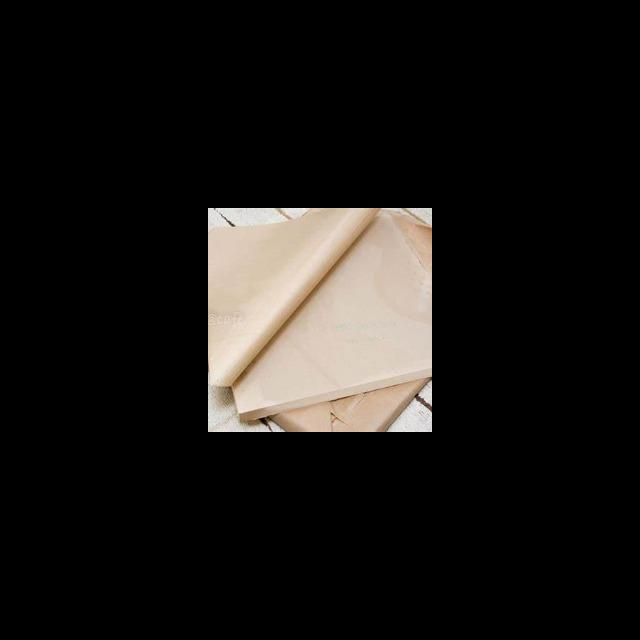paper: (208, 222, 432, 410)
